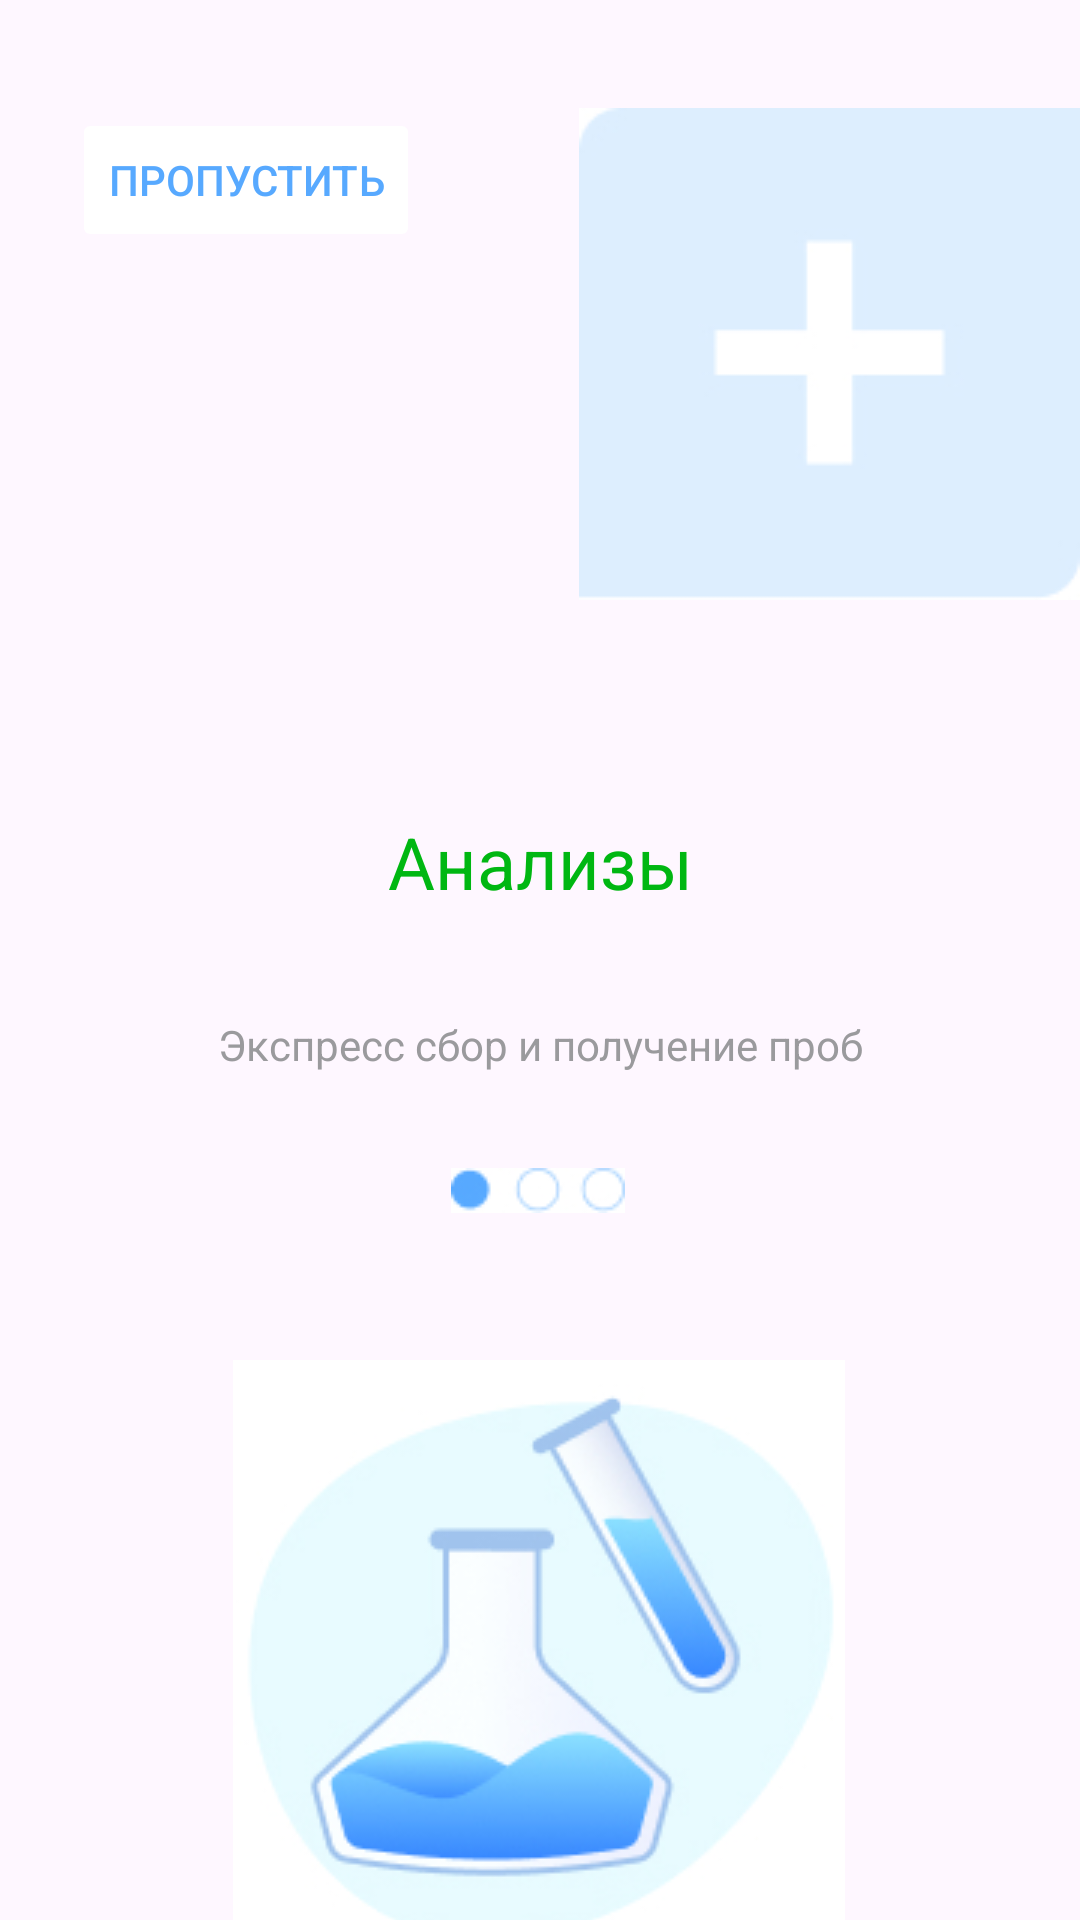

Icon bounding boxes for this 1080w x 1920h phone screenshot, format detection(x1, y1, x2, y2):
bubles: detection(451, 1168, 625, 1211)
